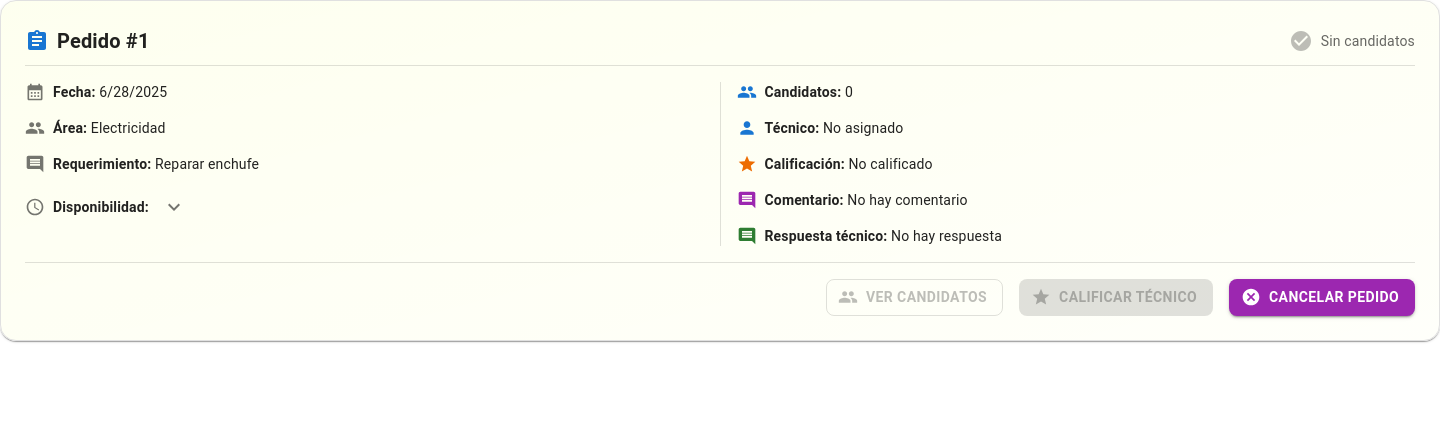
Test: PedidoCardCliente › cancela el pedido y muestra mensaje de éxito
Click the button "Cancelar Pedido" at (1322, 297), box [1229,279,1415,316]
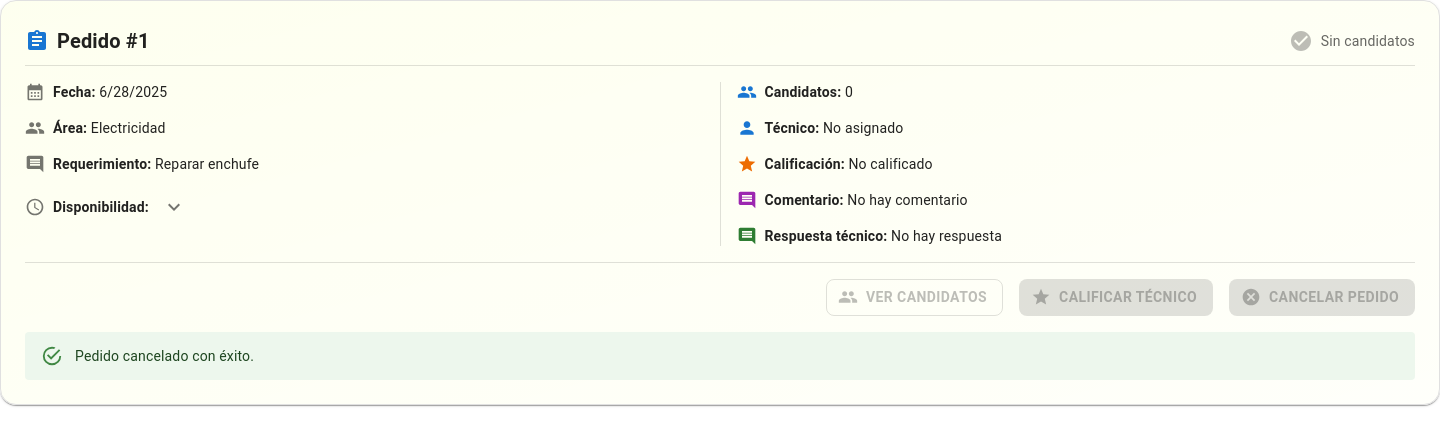
Expected: the text "Pedido cancelado con éxito." is shown, [75,348,254,364]
